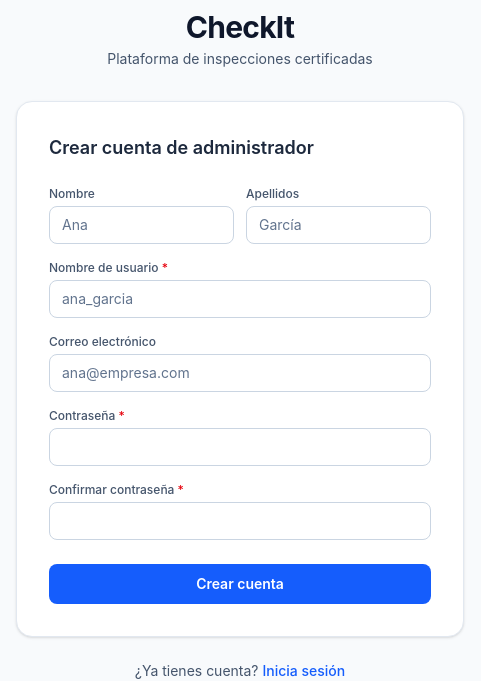
Test: Alta por invitación (B3) › si la invitación se gasta mientras rellena, lo dice al enviar
The width and height of the screenshot is (481, 681).
Type "ana" into the field labelled "Nombre de usuario *". click: (240, 299)
box: [49,280,431,318]
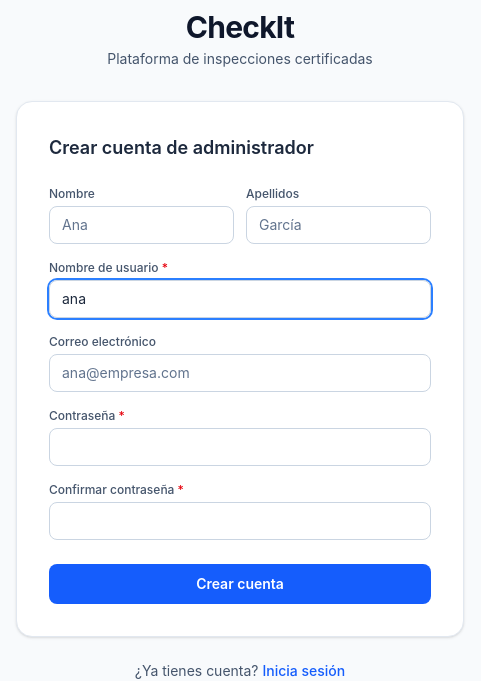
Type "SecurePass123!" into the password field labelled "Contraseña *". click: (240, 447)
box: [49,428,431,466]
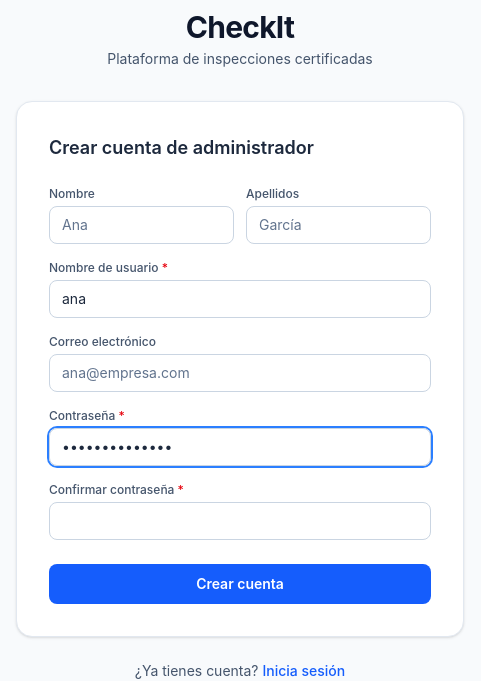
Type "SecurePass123!" into the password field labelled "Confirmar contraseña *". click: (240, 521)
box: [49,502,431,540]
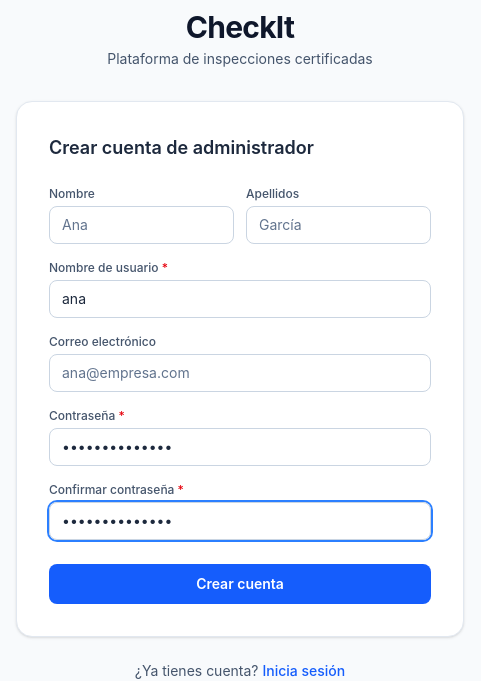
Click the button "Crear cuenta". click: click(240, 584)
box: [49,564,431,604]
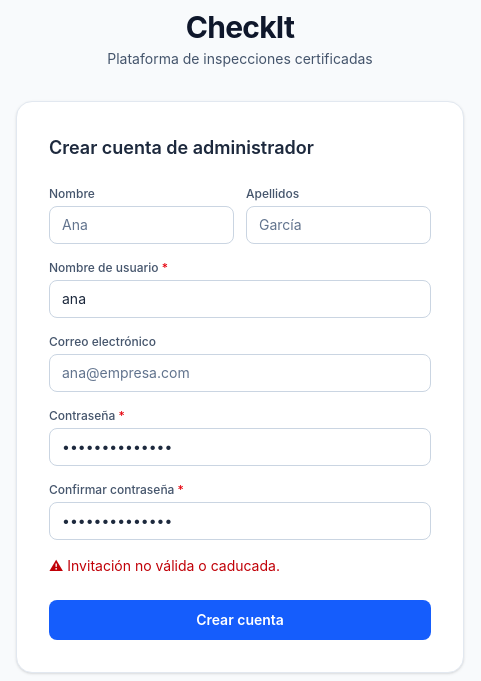
expect the message shows "Invitación no válida o caducada": met, box [67,557,280,574]
